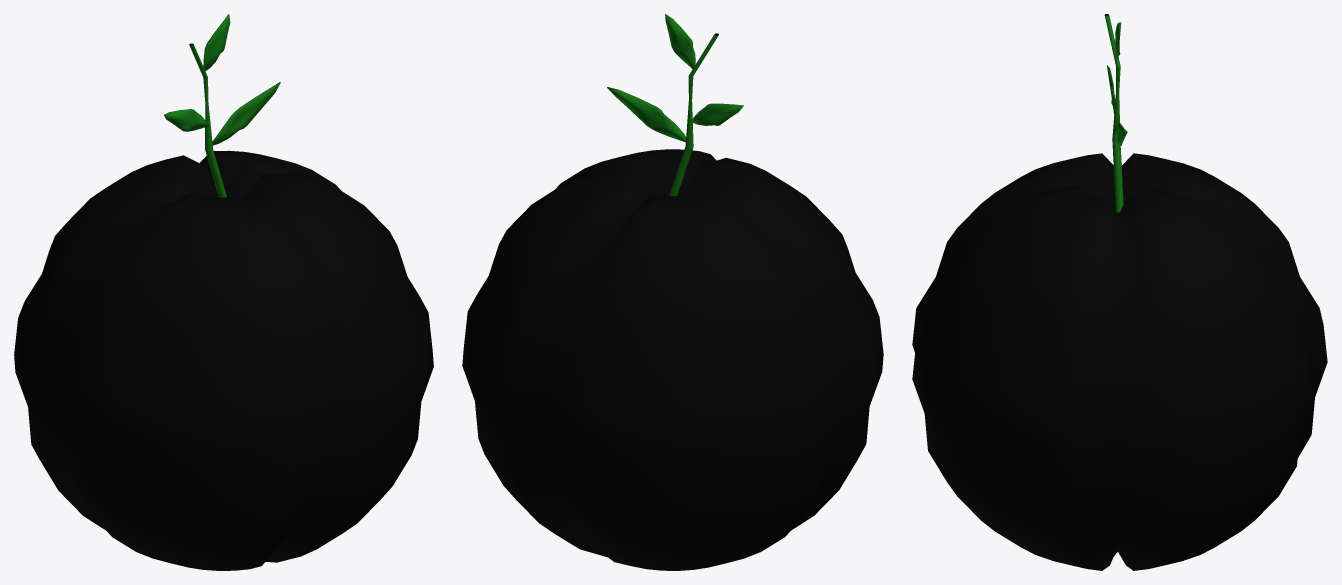
The model's file is zeytin tam.fbx.
The picture shows the model from 3 angles, left to right: view 1: azimuth 30°, elevation 25°; view 2: azimuth 150°, elevation 25°; view 3: azimuth 270°, elevation 25°; orthographic projection.
Parts seen in each view (by area): view 1: Plane.002; view 2: Plane.002; view 3: Plane.002.
Part boxes in pixels (box(x1,y1,x2,y2)): Plane.002: box(14, 14, 433, 570); Plane.002: box(462, 14, 883, 570); Plane.002: box(912, 14, 1327, 570).
Size of the model in its own units: 189 by 268 by 191.
